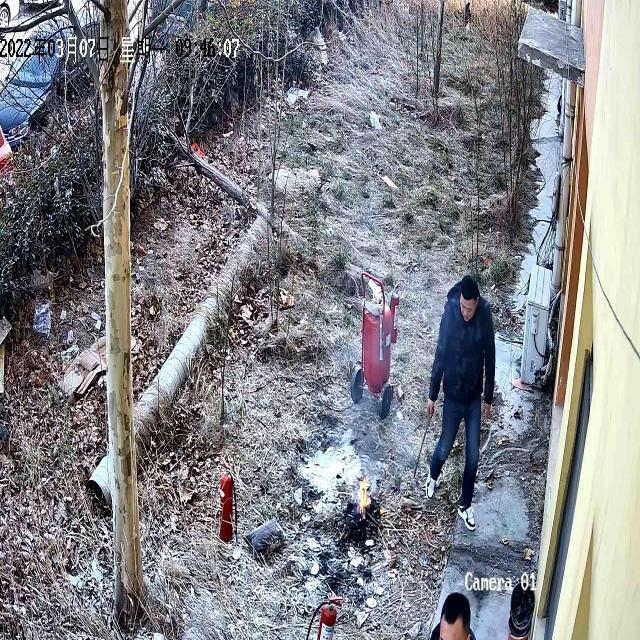Fire: (352, 480, 373, 518)
Smoke: (338, 390, 382, 477)
